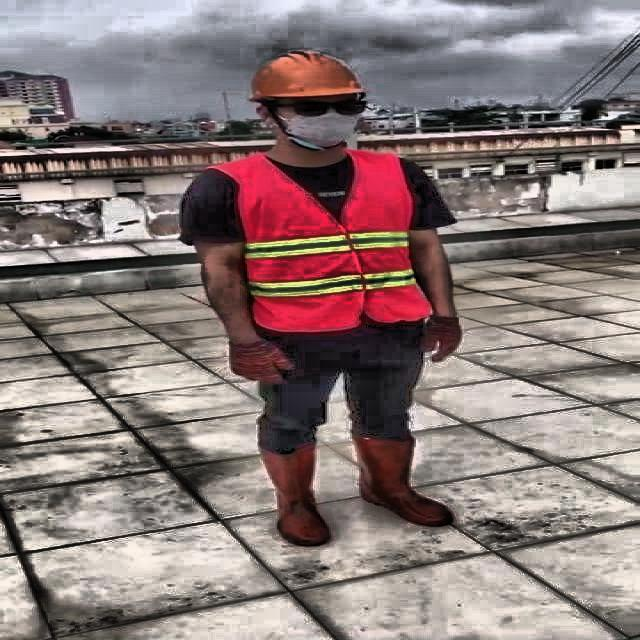safety_helmet: (238, 47, 370, 101)
safety_jacket: (238, 154, 427, 330)
